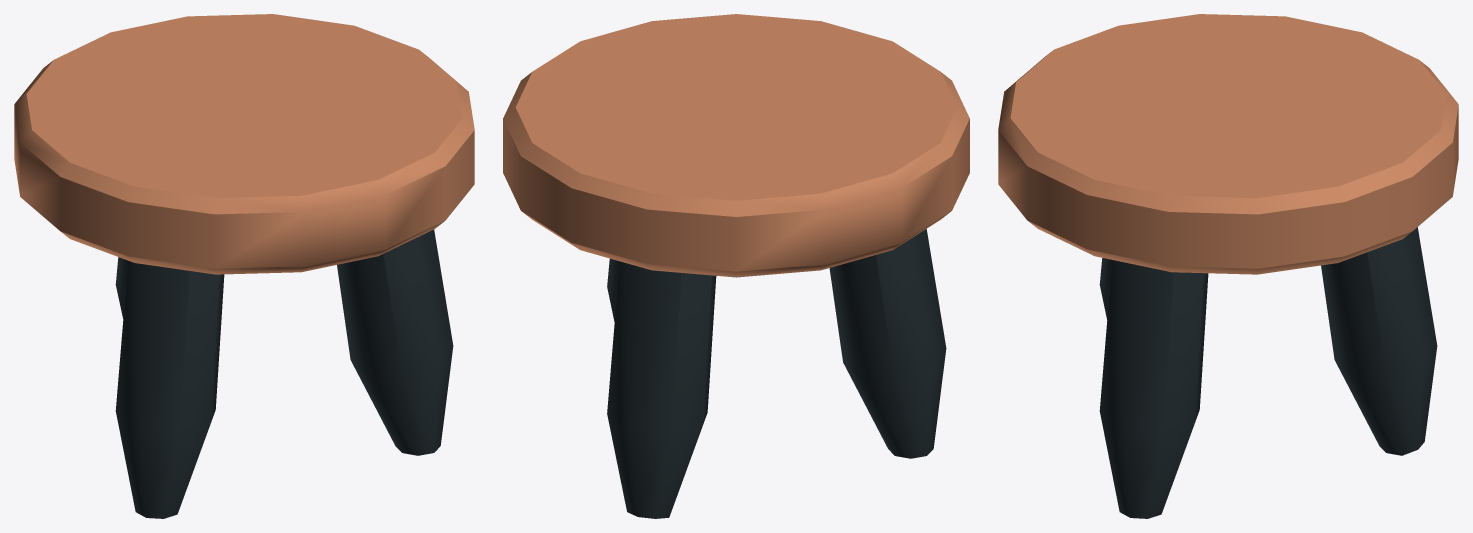
File: table.gltf.glb
The picture shows the model from 3 angles, left to right: view 1: azimuth 30°, elevation 25°; view 2: azimuth 150°, elevation 25°; view 3: azimuth 270°, elevation 25°; orthographic projection.
Visible parts, largest first — view 1: table; view 2: table; view 3: table.
Part boxes in pixels (x1,y1,x2,y2): table: [14, 14, 474, 518]; table: [503, 14, 969, 518]; table: [998, 14, 1458, 518].
Bounding box in the file's own units: 0.8337 × 0.6793 × 0.8337.
